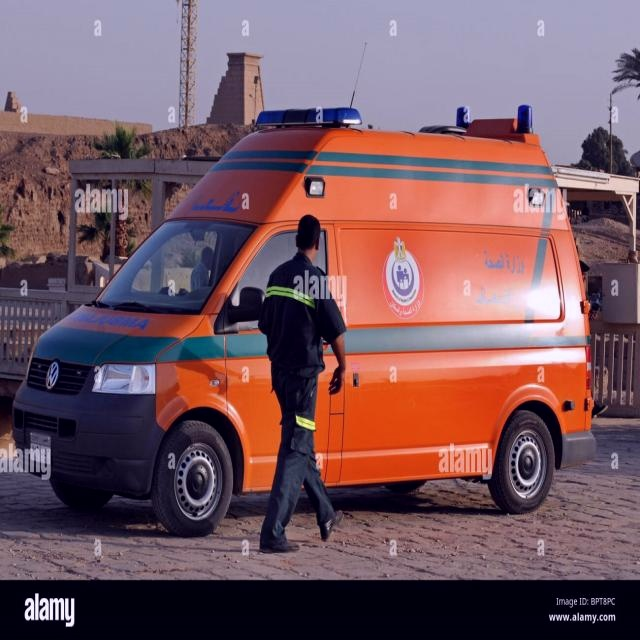Ambulance: (10, 102, 602, 538)
person: (257, 213, 347, 554), (190, 246, 214, 292)
